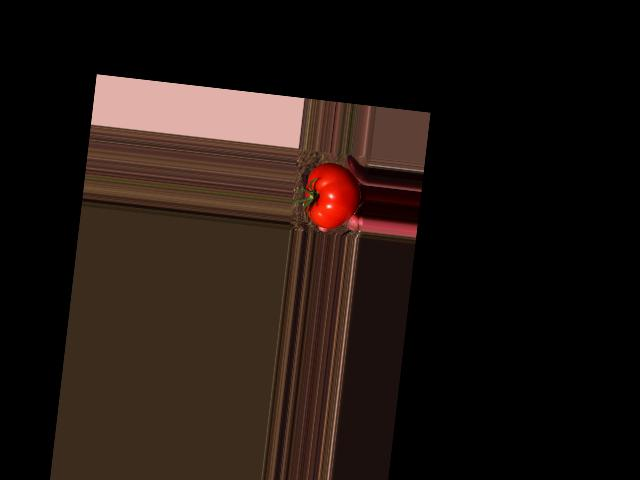tomato: (301, 160, 364, 232)
